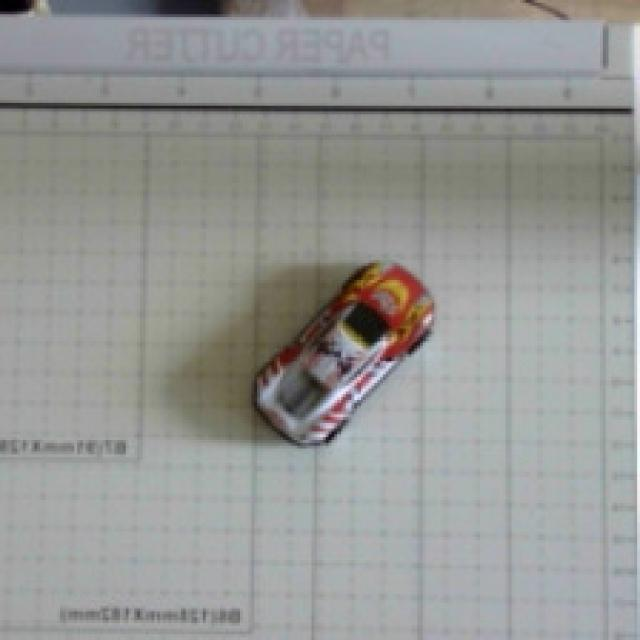Red Car: (199, 247, 509, 506)
